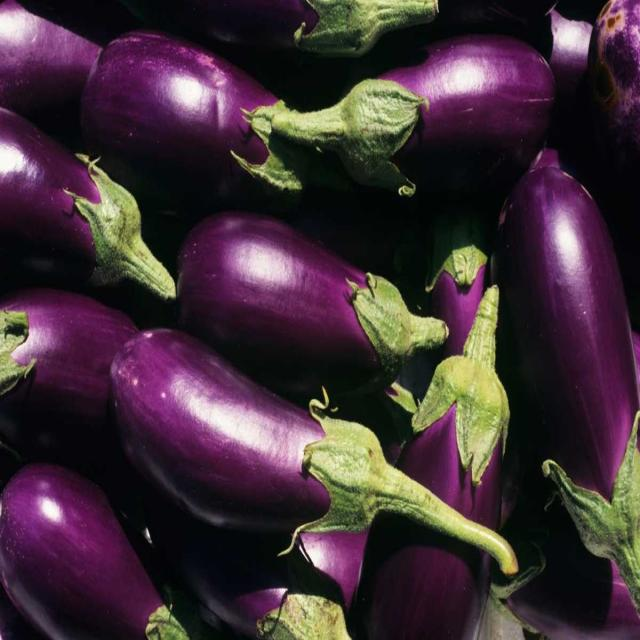Eggplant-r1Ob: (110, 329, 518, 574), (499, 164, 640, 614), (234, 38, 555, 196), (178, 213, 449, 391), (0, 463, 189, 640), (0, 108, 175, 299), (80, 32, 275, 201), (398, 286, 509, 529), (0, 288, 136, 459), (365, 521, 491, 637)
